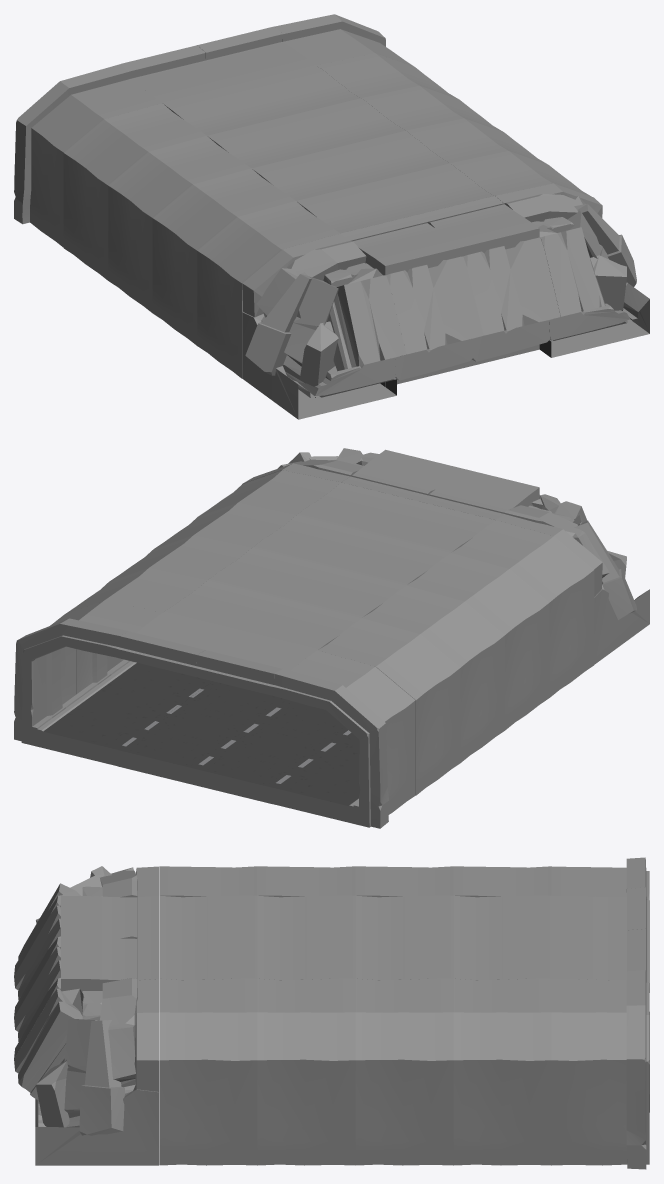
Rendered from Bridge.fbx.
3 views of the same model, one above another, from view 1: azimuth 30°, elevation 25°; view 2: azimuth 150°, elevation 25°; view 3: azimuth 270°, elevation 25° (orthographic). The views are drawn at different scales.
Parts seen in each view (by area): view 1: SM_Env_Motorway_Tunnel_Destroyed_Right_01, SM_Env_Motorway_Tunnel_Destroyed_Right_01__1_, SM_Env_Motorway_Tunnel_Destroyed_Middle_01, SM_Env_Motorway_Tunnel_Destroyed_Middle_01__1_, SM_Env_Motorway_Tunnel_Edge_01, SM_Env_Motorway_Tunnel_Edge_02__6_, SM_Env_Motorway_Tunnel_Edge_02__5_, SM_Env_Motorway_Tunnel_Edge_02__1_, SM_Env_Motorway_Tunnel_Edge_02__3_, SM_Env_Motorway_Tunnel_Middle_01__1_, SM_Env_Motorway_Tunnel_Middle_01, SM_Env_Motorway_Tunnel_Edge_01__1_ (+12 smaller); view 2: SM_Env_Motorway_Tunnel_Edge_01, SM_Env_Motorway_Tunnel_Edge_01__1_, SM_Env_Motorway_Tunnel_Edge_02__1_, SM_Env_Motorway_Tunnel_Edge_02__6_, SM_Env_Motorway_Tunnel_Edge_02__3_, SM_Env_Motorway_Tunnel_Edge_02__5_, SM_Env_Motorway_Tunnel_Middle_01, SM_Env_Motorway_Tunnel_Middle_01__1_, SM_Env_Motorway_Tunnel_Edge_02, SM_Env_Motorway_Tunnel_Destroyed_Right_01, SM_Env_Motorway_Tunnel_Middle_02, SM_Env_Motorway_Tunnel_Middle_02__1_ (+12 smaller); view 3: SM_Env_Motorway_Tunnel_Destroyed_Right_01__1_, SM_Env_Motorway_Tunnel_Edge_01__1_, SM_Env_Motorway_Tunnel_Edge_02__4_, SM_Env_Motorway_Tunnel_Edge_02__7_, SM_Env_Motorway_Tunnel_Edge_02__2_, SM_Env_Motorway_Tunnel_Edge_02, SM_Env_Motorway_Tunnel_Destroyed_Middle_01__1_, SM_Env_Motorway_Tunnel_Destroyed_Middle_01, SM_Env_Motorway_Tunnel_Middle_01__1_, SM_Env_Motorway_Tunnel_Middle_02__5_, SM_Env_Motorway_Tunnel_Middle_02__3_, SM_Env_Motorway_Tunnel_Middle_02__6_ (+12 smaller).
Boxes of the visible parts, left/top/right/bottom form: SM_Env_Motorway_Tunnel_Destroyed_Right_01: left=242, top=233, right=406, bottom=419; SM_Env_Motorway_Tunnel_Destroyed_Right_01__1_: left=495, top=183, right=649, bottom=357; SM_Env_Motorway_Tunnel_Destroyed_Middle_01: left=341, top=214, right=483, bottom=386; SM_Env_Motorway_Tunnel_Destroyed_Middle_01__1_: left=418, top=196, right=560, bottom=368; SM_Env_Motorway_Tunnel_Edge_01: left=14, top=64, right=162, bottom=247; SM_Env_Motorway_Tunnel_Edge_02__6_: left=197, top=201, right=339, bottom=378; SM_Env_Motorway_Tunnel_Edge_02__5_: left=152, top=168, right=295, bottom=345; SM_Env_Motorway_Tunnel_Edge_02__1_: left=63, top=103, right=206, bottom=280; SM_Env_Motorway_Tunnel_Edge_02__3_: left=108, top=136, right=250, bottom=312; SM_Env_Motorway_Tunnel_Middle_01__1_: left=197, top=26, right=316, bottom=83; SM_Env_Motorway_Tunnel_Middle_01: left=120, top=45, right=239, bottom=102; SM_Env_Motorway_Tunnel_Edge_01__1_: left=274, top=14, right=414, bottom=66; SM_Env_Motorway_Tunnel_Edge_01: left=272, top=650, right=415, bottom=828; SM_Env_Motorway_Tunnel_Edge_01__1_: left=14, top=600, right=162, bottom=766; SM_Env_Motorway_Tunnel_Edge_02__1_: left=318, top=618, right=460, bottom=795; SM_Env_Motorway_Tunnel_Edge_02__6_: left=451, top=520, right=594, bottom=697; SM_Env_Motorway_Tunnel_Edge_02__3_: left=362, top=585, right=504, bottom=762; SM_Env_Motorway_Tunnel_Edge_02__5_: left=407, top=553, right=549, bottom=730; SM_Env_Motorway_Tunnel_Middle_01: left=195, top=631, right=316, bottom=803; SM_Env_Motorway_Tunnel_Middle_01__1_: left=118, top=612, right=239, bottom=785; SM_Env_Motorway_Tunnel_Edge_02: left=65, top=568, right=207, bottom=717; SM_Env_Motorway_Tunnel_Destroyed_Right_01: left=495, top=494, right=649, bottom=664; SM_Env_Motorway_Tunnel_Middle_02: left=163, top=580, right=284, bottom=736; SM_Env_Motorway_Tunnel_Middle_02__1_: left=240, top=599, right=361, bottom=755; SM_Env_Motorway_Tunnel_Destroyed_Right_01__1_: left=14, top=978, right=158, bottom=1165; SM_Env_Motorway_Tunnel_Edge_01__1_: left=551, top=970, right=649, bottom=1169; SM_Env_Motorway_Tunnel_Edge_02__4_: left=257, top=978, right=355, bottom=1165; SM_Env_Motorway_Tunnel_Edge_02__7_: left=159, top=978, right=257, bottom=1165; SM_Env_Motorway_Tunnel_Edge_02__2_: left=355, top=978, right=453, bottom=1165; SM_Env_Motorway_Tunnel_Edge_02: left=453, top=978, right=551, bottom=1165; SM_Env_Motorway_Tunnel_Destroyed_Middle_01__1_: left=14, top=937, right=158, bottom=1058; SM_Env_Motorway_Tunnel_Destroyed_Middle_01: left=14, top=896, right=158, bottom=1017; SM_Env_Motorway_Tunnel_Middle_01__1_: left=551, top=929, right=649, bottom=1112; SM_Env_Motorway_Tunnel_Middle_02__5_: left=257, top=895, right=355, bottom=938; SM_Env_Motorway_Tunnel_Middle_02__3_: left=355, top=895, right=453, bottom=938; SM_Env_Motorway_Tunnel_Middle_02__6_: left=159, top=895, right=257, bottom=938.
Size of the model in its own units: 2520 by 799 by 3239.
Materials: 1 (1 with a texture image).
